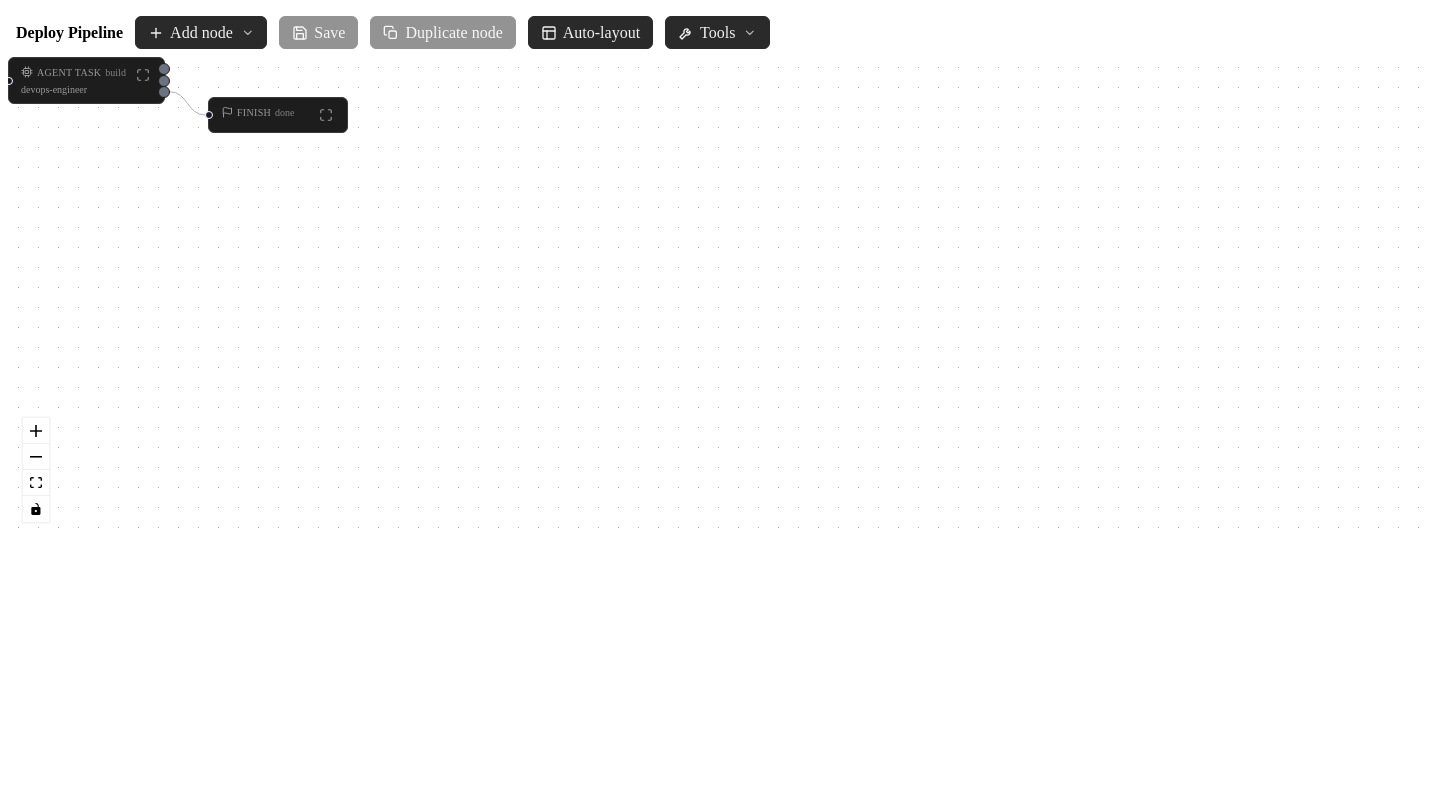
it: FlowEditor › adds a node from the Add-node menu, opening it for editing and marking dirty
Click the button "Add node" at (201, 33), box [135,16,267,49]
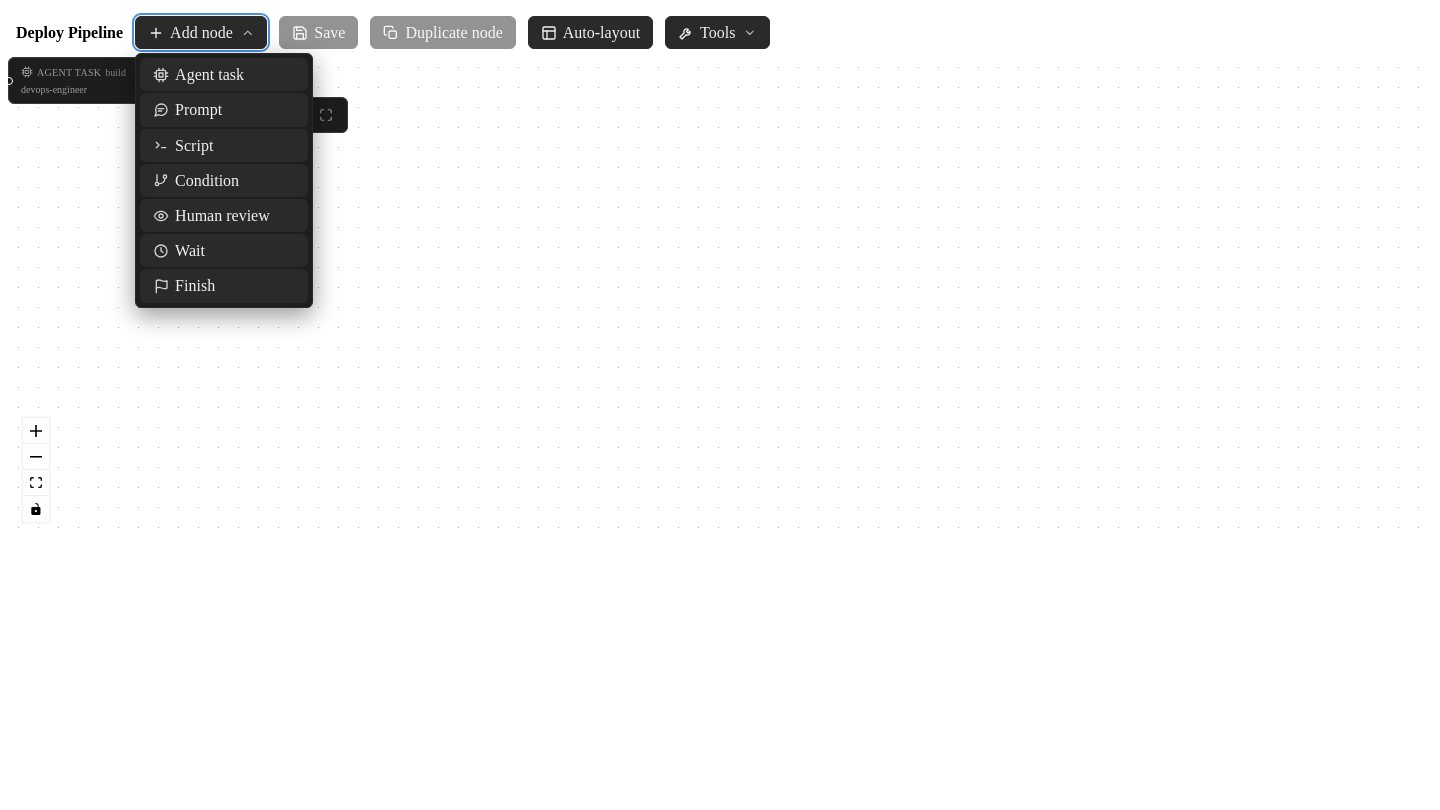
Click the menu item "Agent task" at (224, 75), box [140,58,308,91]
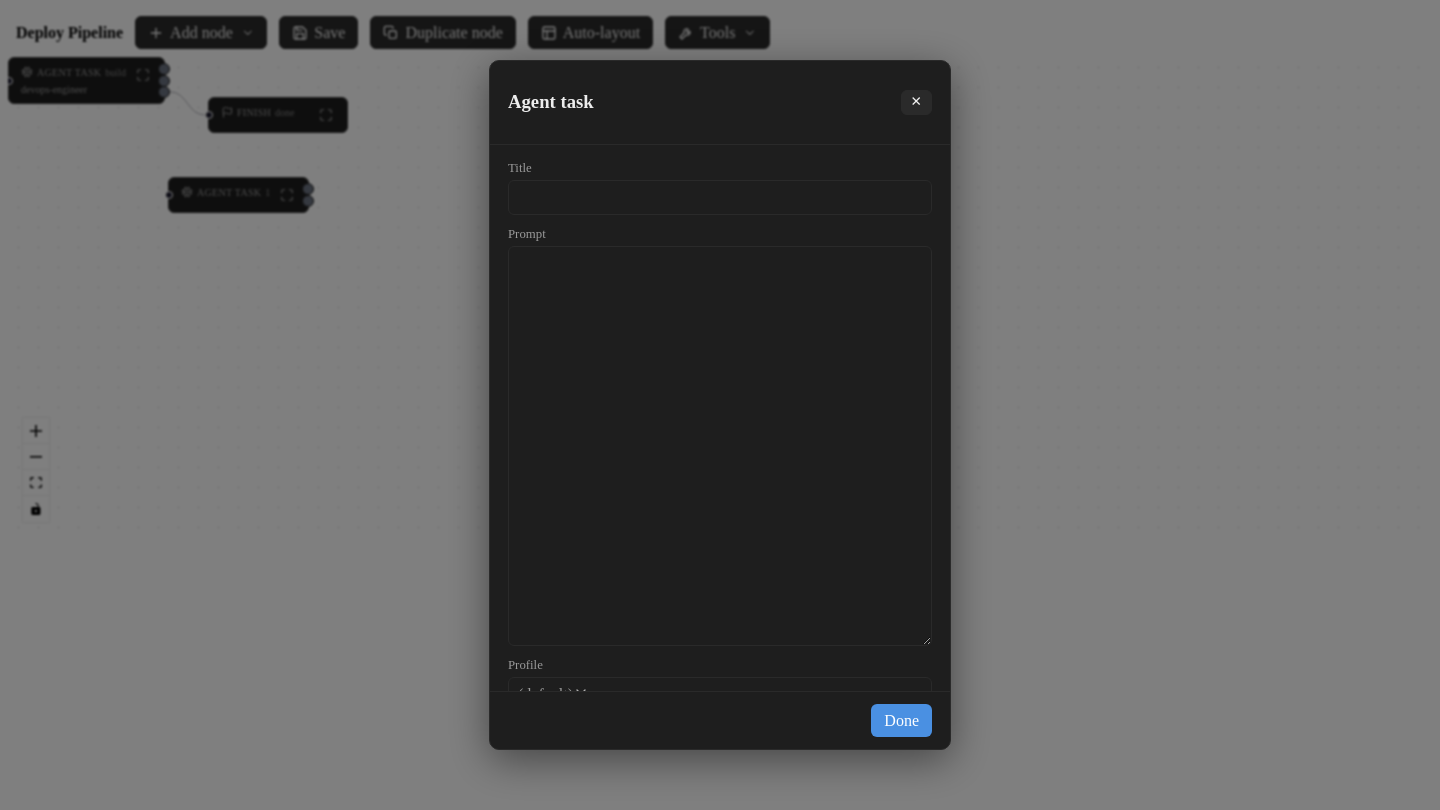
Expected: the text box labelled "Prompt" is shown, [508,246,932,646]
Expected: the button "Save" is enabled, [279,16,358,49]
